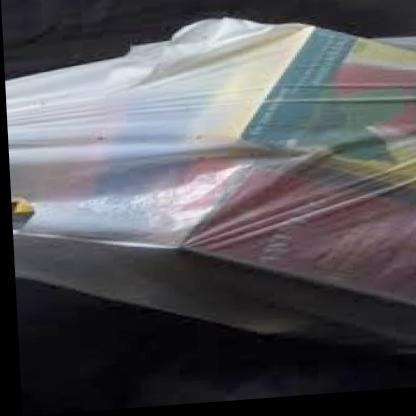Plastic: (3, 0, 416, 385)
